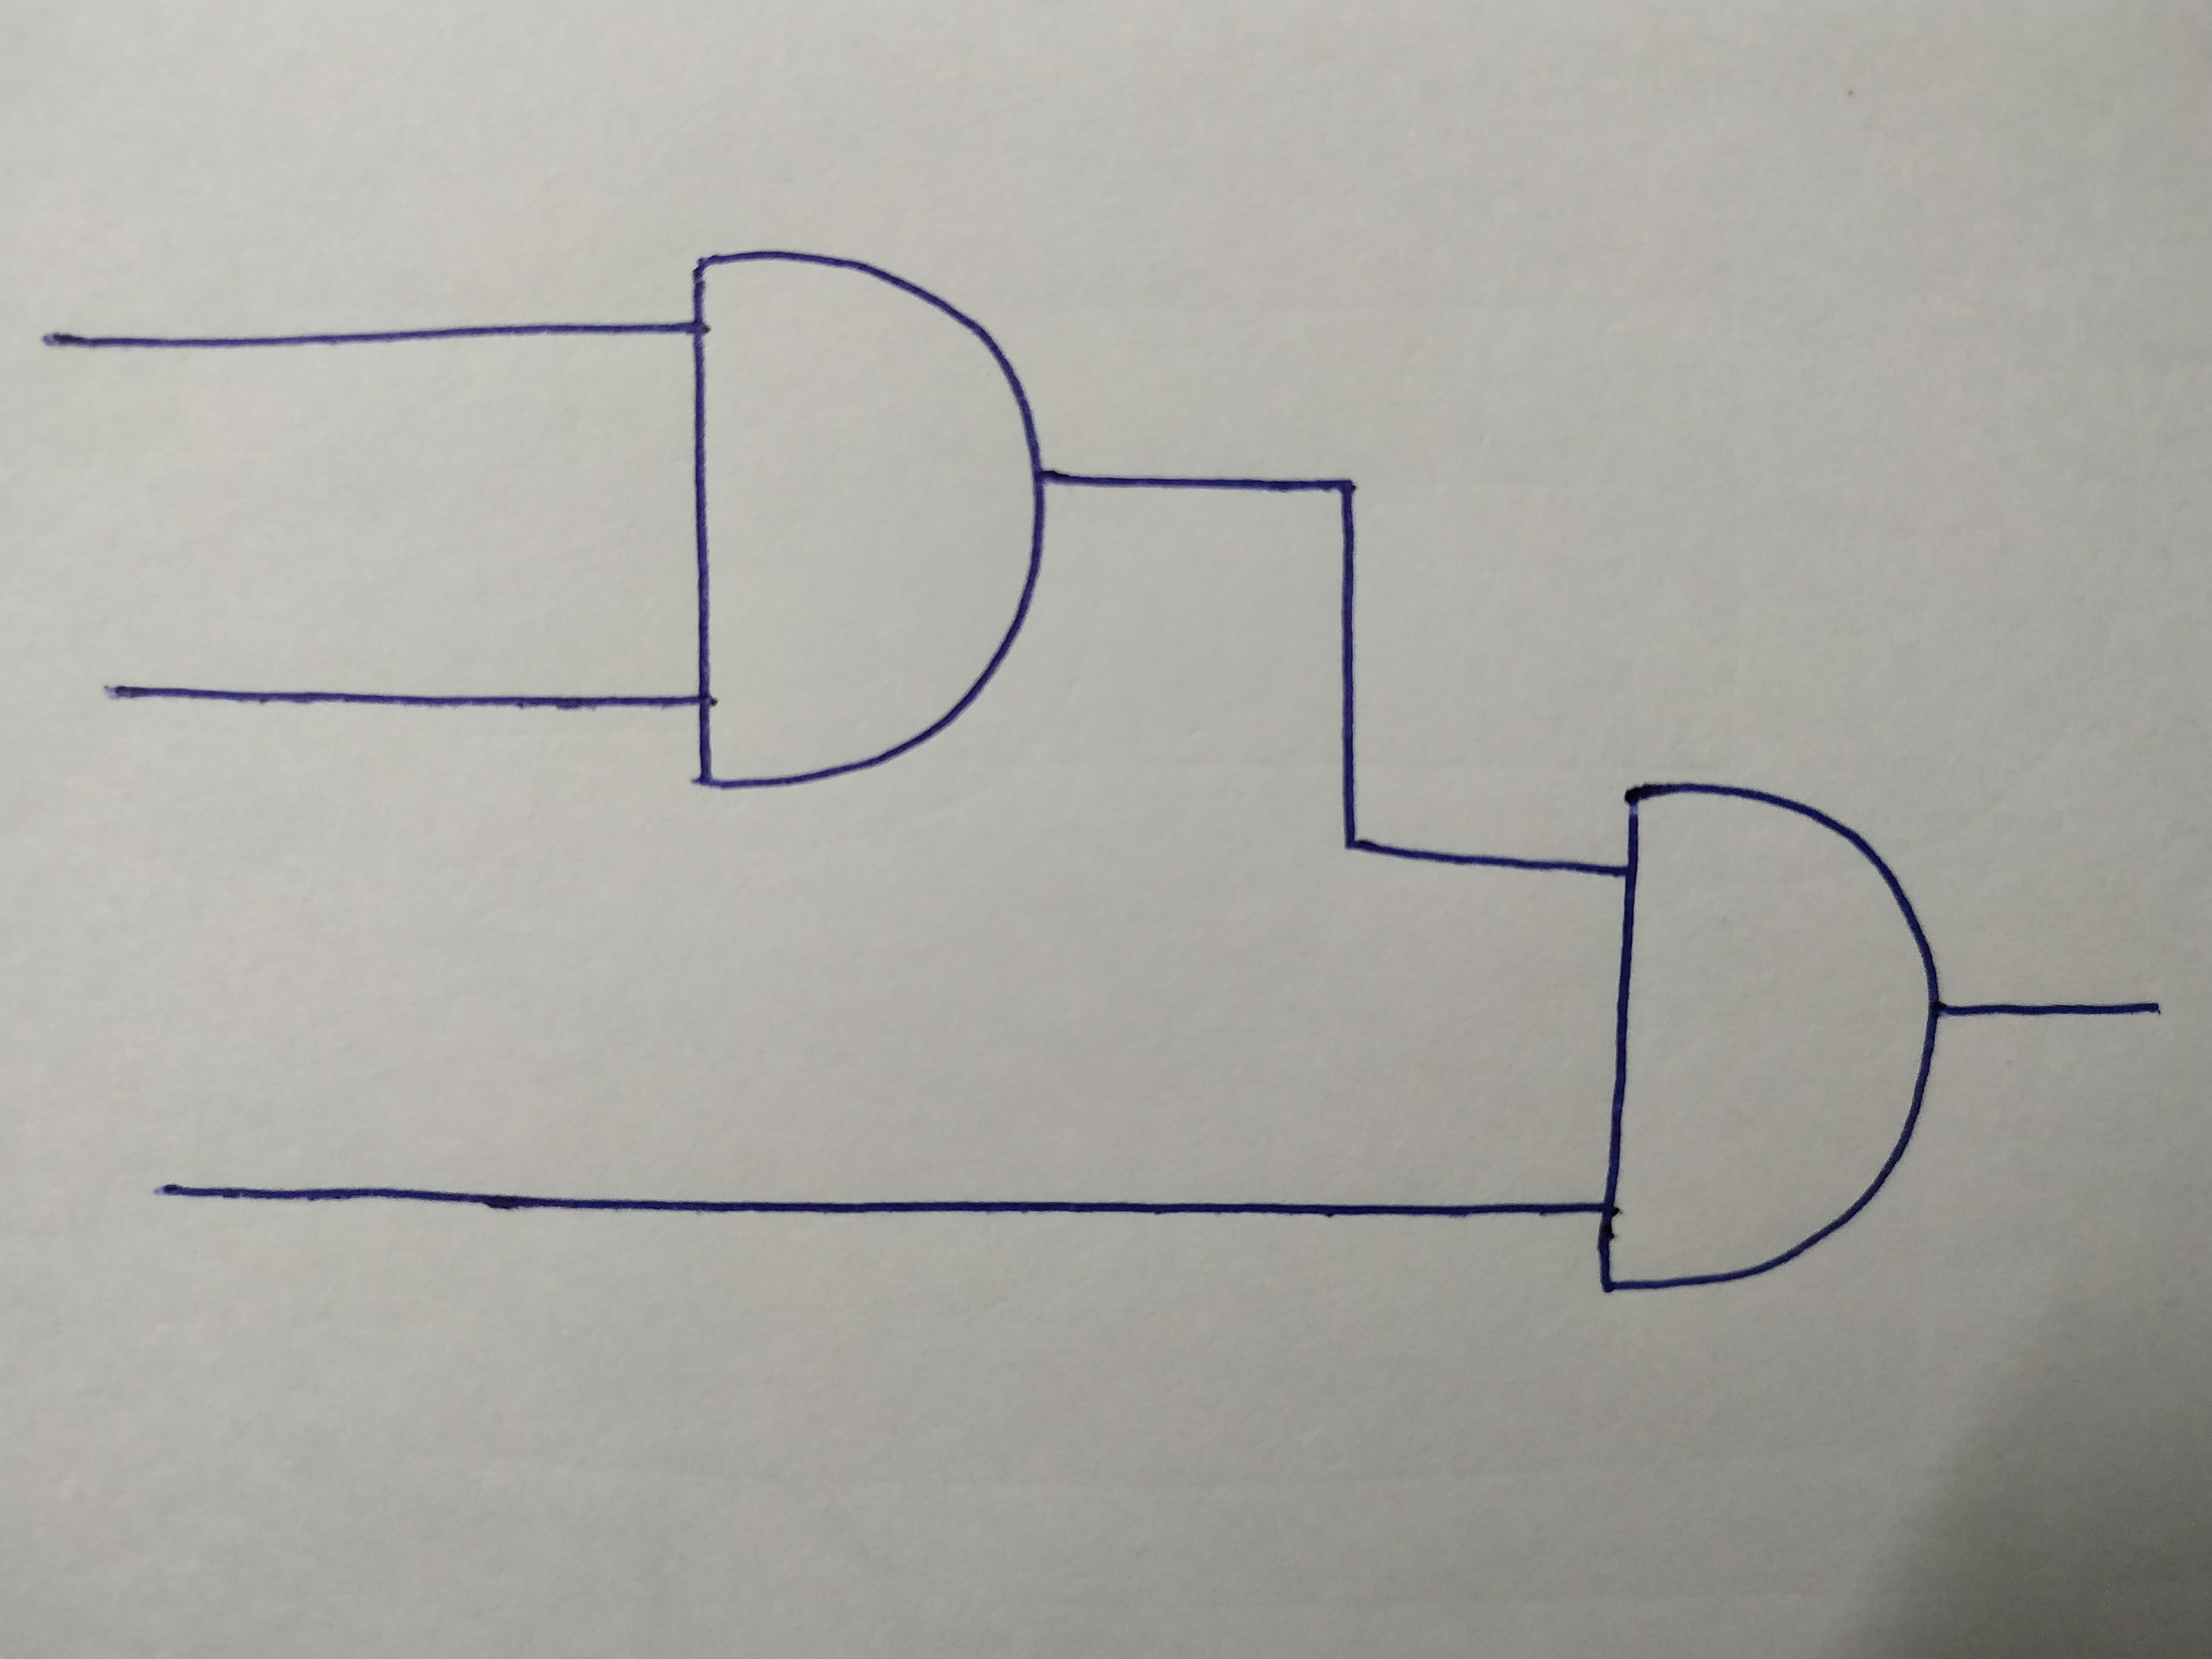and: (690, 256, 1043, 791), (1594, 781, 1937, 1293)
